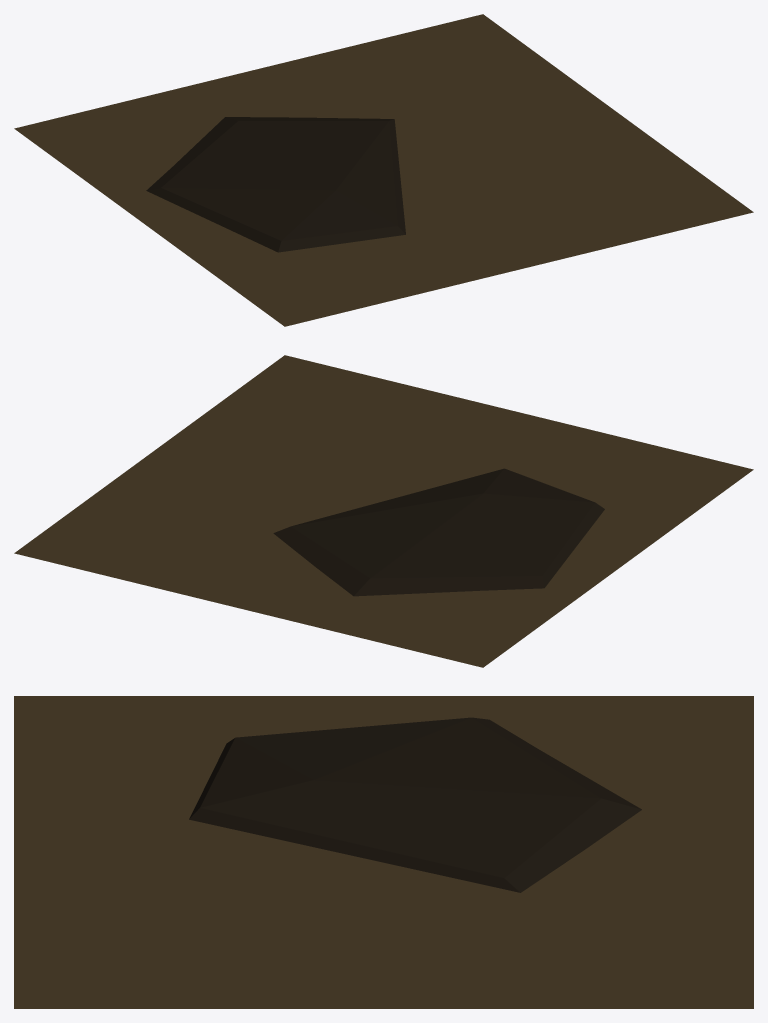
File: Floor.002.fbx
3 views of the same model, one above another, from view 1: azimuth 30°, elevation 25°; view 2: azimuth 150°, elevation 25°; view 3: azimuth 270°, elevation 25° (orthographic). The views are drawn at different scales.
Visible parts, largest first — view 1: Floor.002; view 2: Floor.002; view 3: Floor.002.
Boxes of the visible parts, x1=… form: Floor.002: x1=14, y1=14, x2=753, y2=326; Floor.002: x1=14, y1=355, x2=753, y2=667; Floor.002: x1=14, y1=696, x2=753, y2=1008.
Bounding box in the file's own units: 100 × 4.59 × 100.
